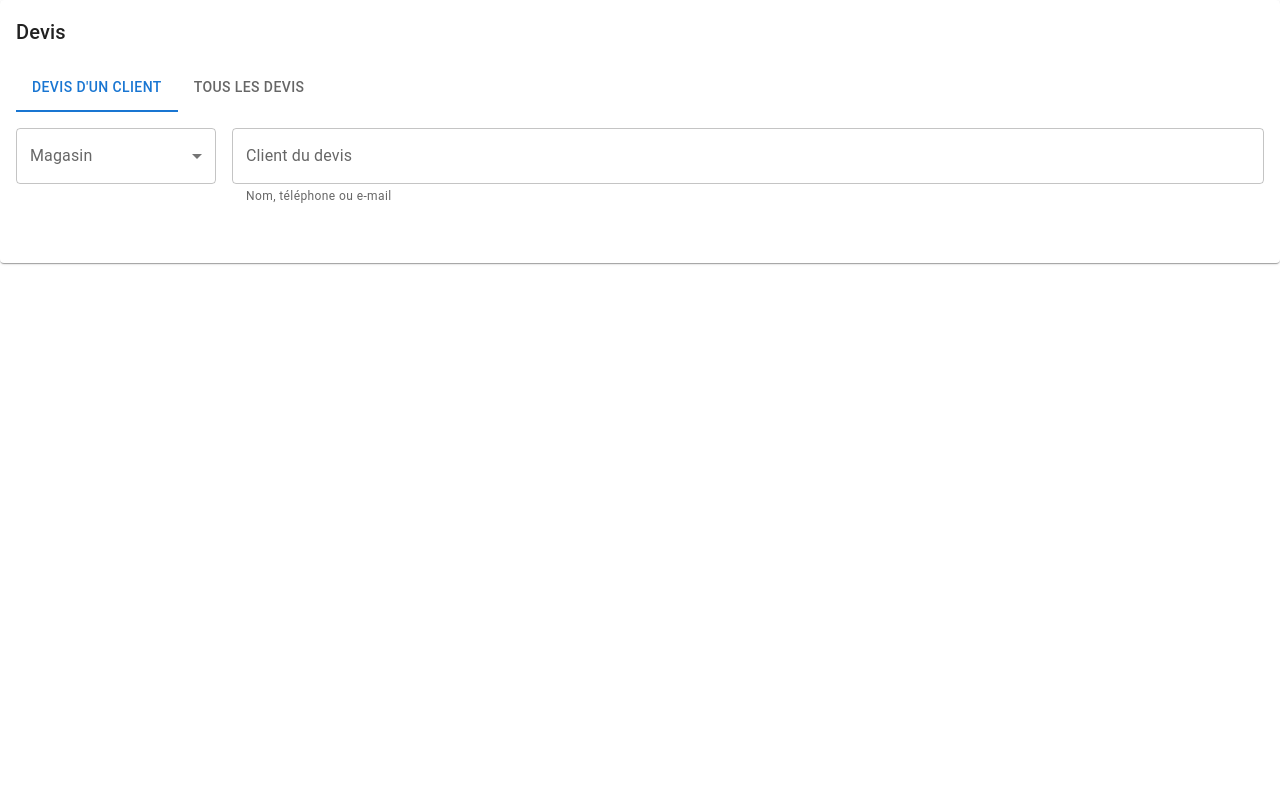
Test: encaisse un devis au prix du devis
Type "ben" into the field labelled "Client du devis" at (748, 156), box top-left (232, 128), bottom-right (1264, 184)
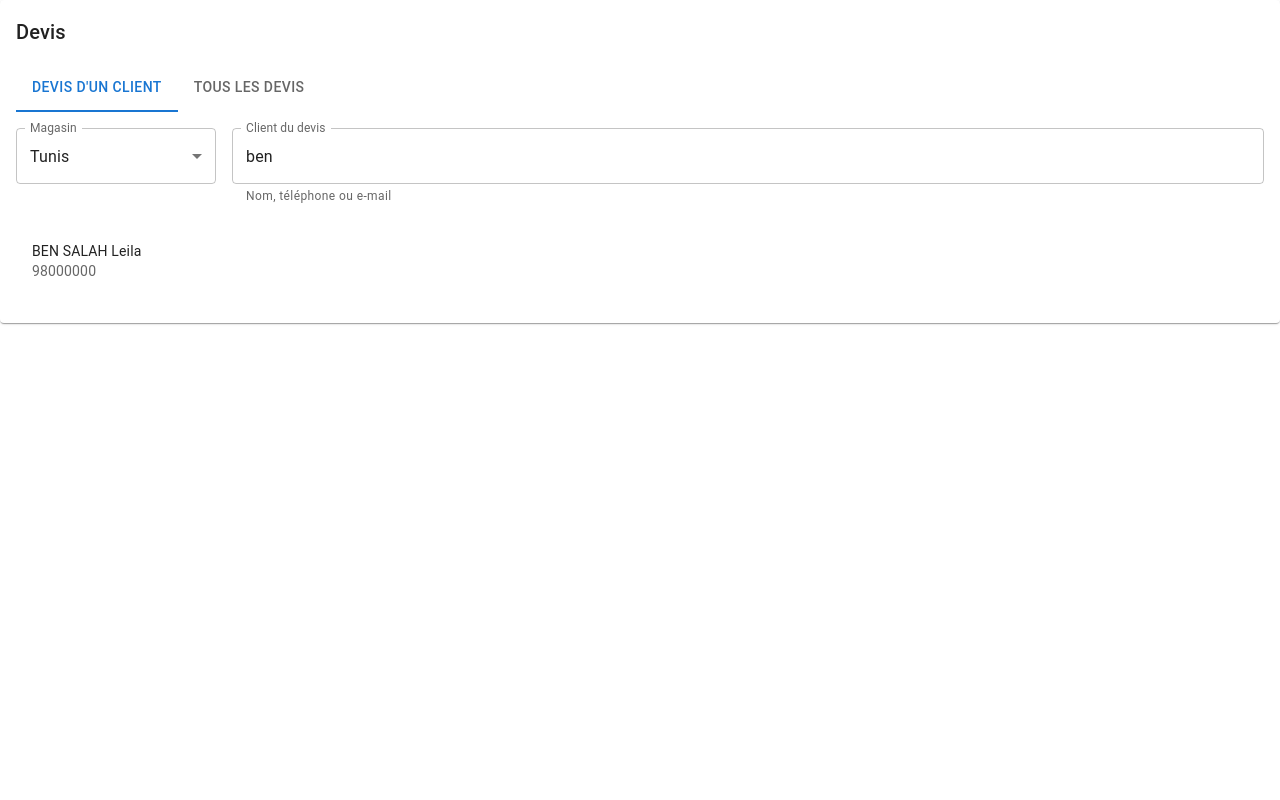
Click the text "BEN SALAH Leila" at (87, 251), box top-left (32, 243), bottom-right (142, 259)
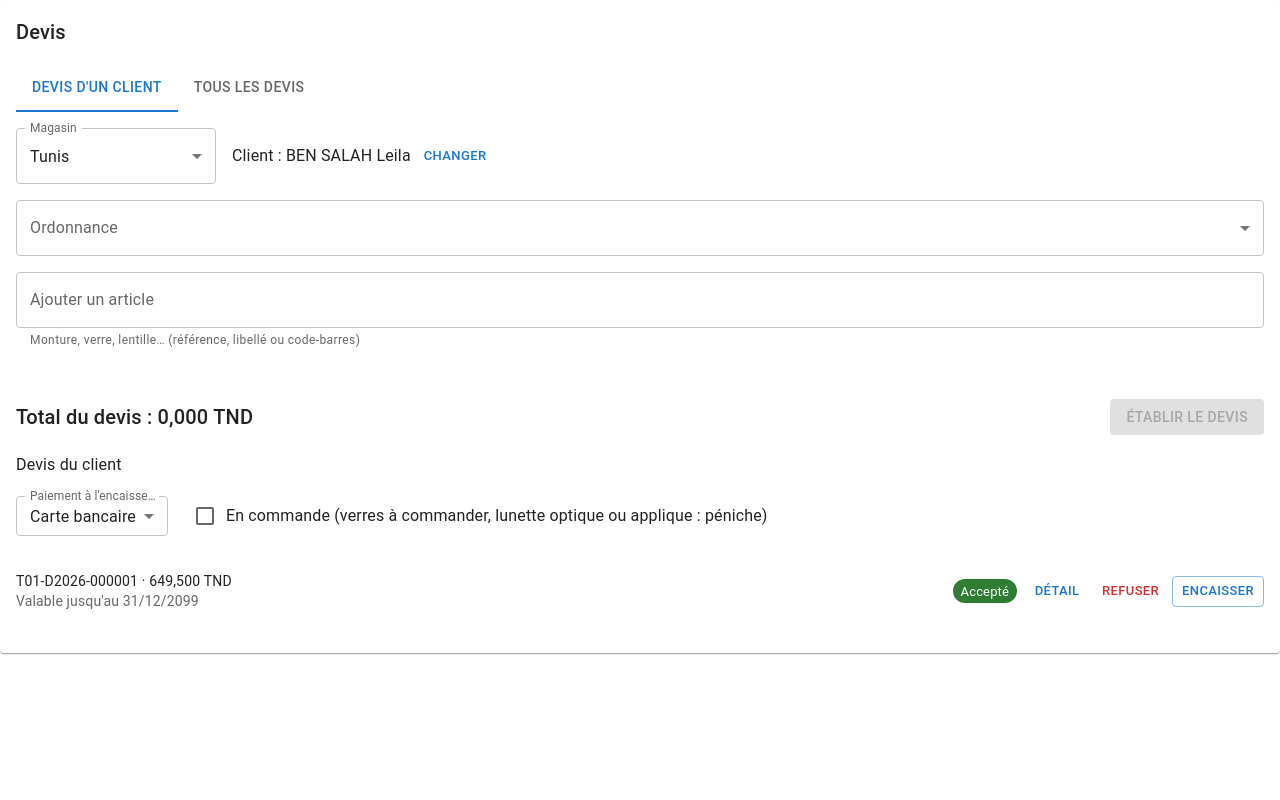
Click the button "Encaisser" at (1218, 591), box top-left (1172, 576), bottom-right (1264, 607)
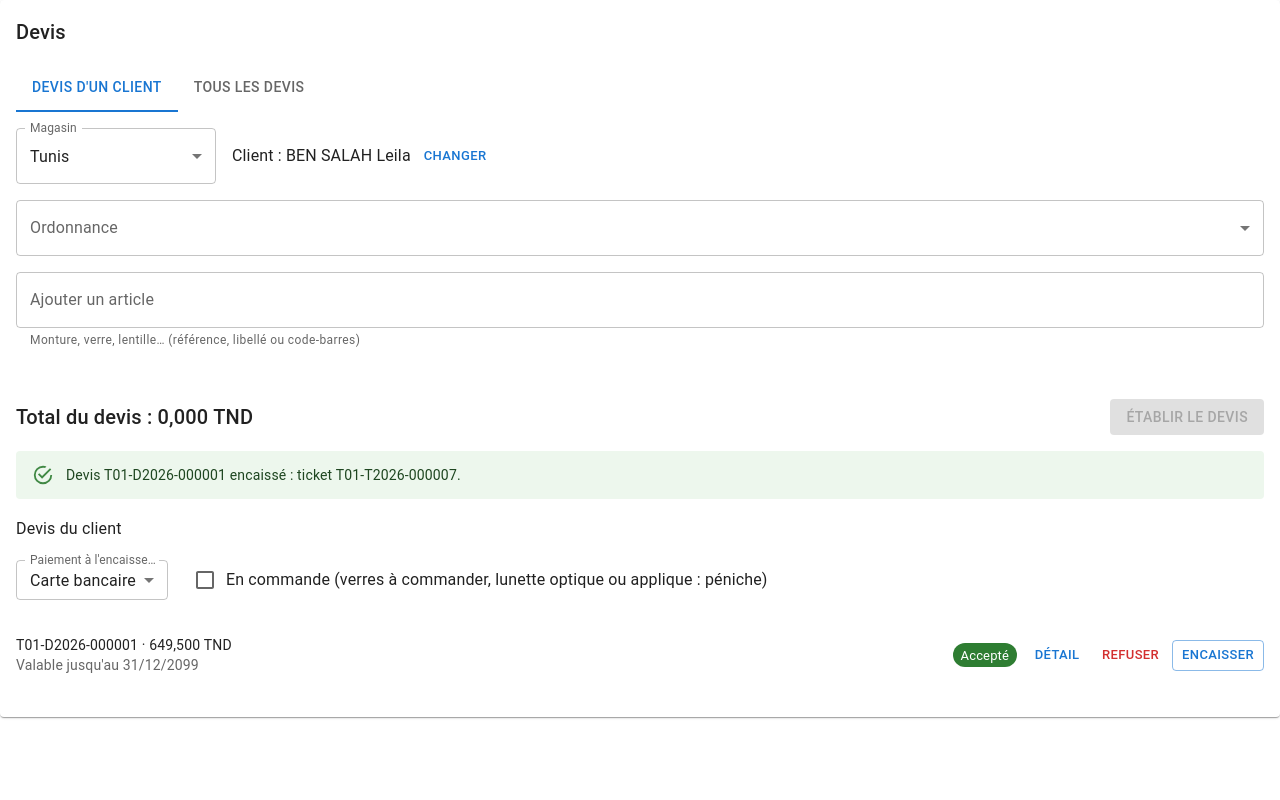
Check: the text "Devis T01-D2026-000001 encaissé : ticket T01-T2026-000007." is shown, box top-left (66, 467), bottom-right (461, 483)
